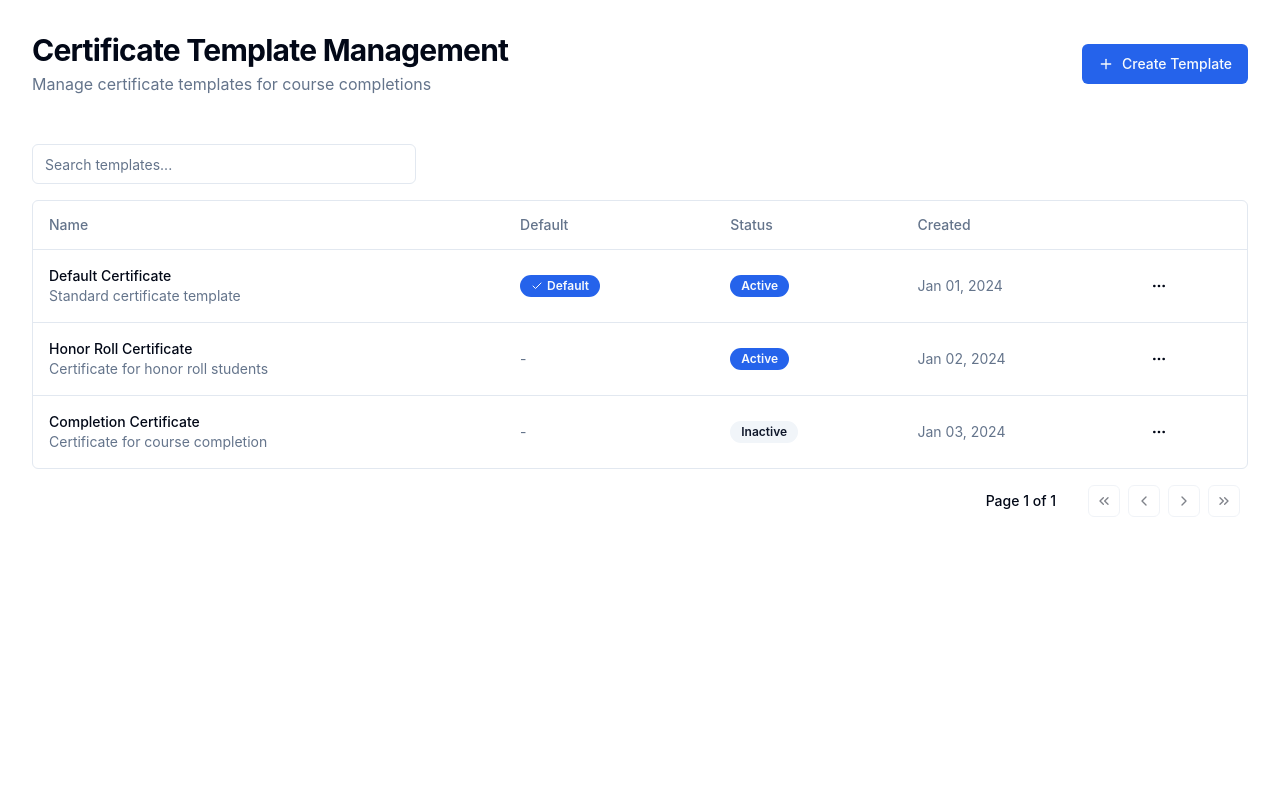
Test: CertificateTemplateManagementPage › Preview Template › should open preview modal when Preview action is clicked
Check: the text "Default Certificate" is shown, box [49, 266, 171, 284]
What coordinates should you click on to do the following:
click the button named "open menu" in the row of "Default Certificate"
I would click on:
 (1159, 286)
Its box is [1143, 270, 1175, 302].
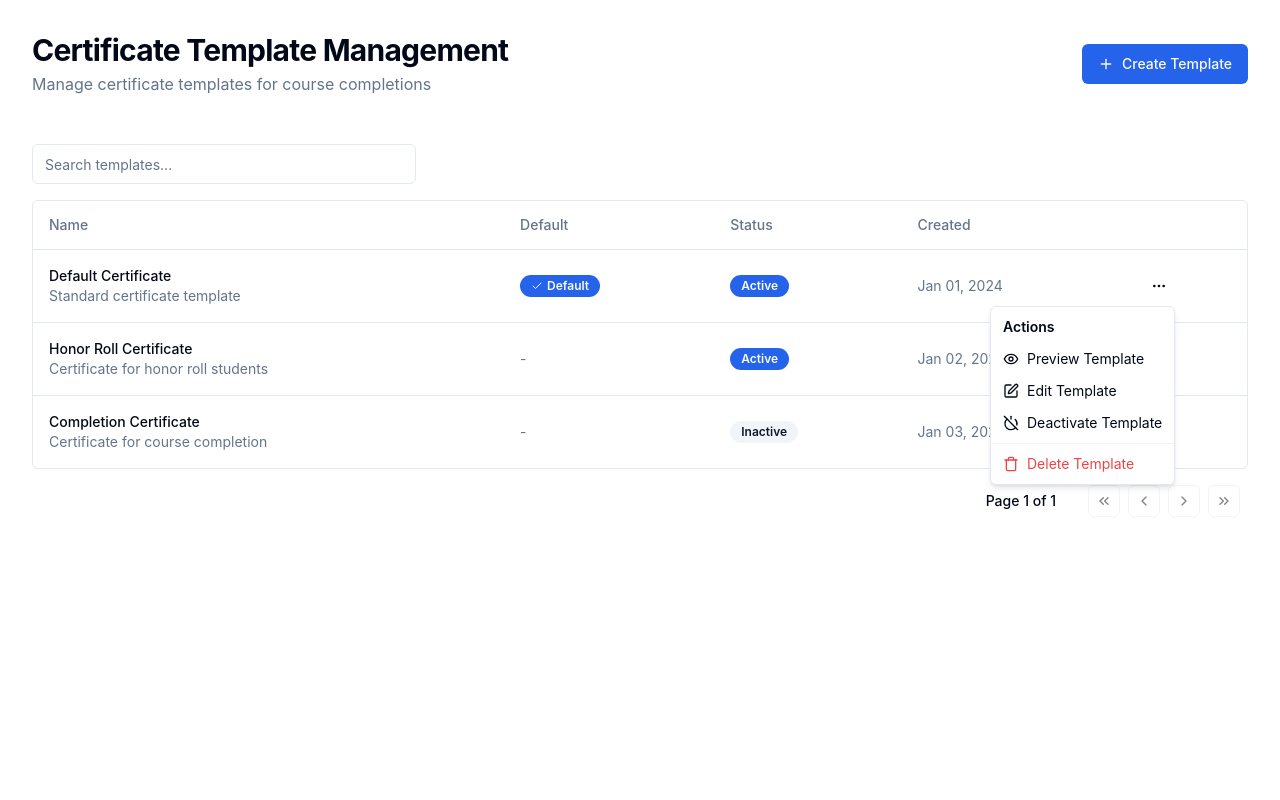
Check: the menu item "Preview Template" is shown
What coordinates should you click on to do the following:
click the menu item "Preview Template"
I would click on:
 (1074, 358)
Its box is [1003, 350, 1144, 367].
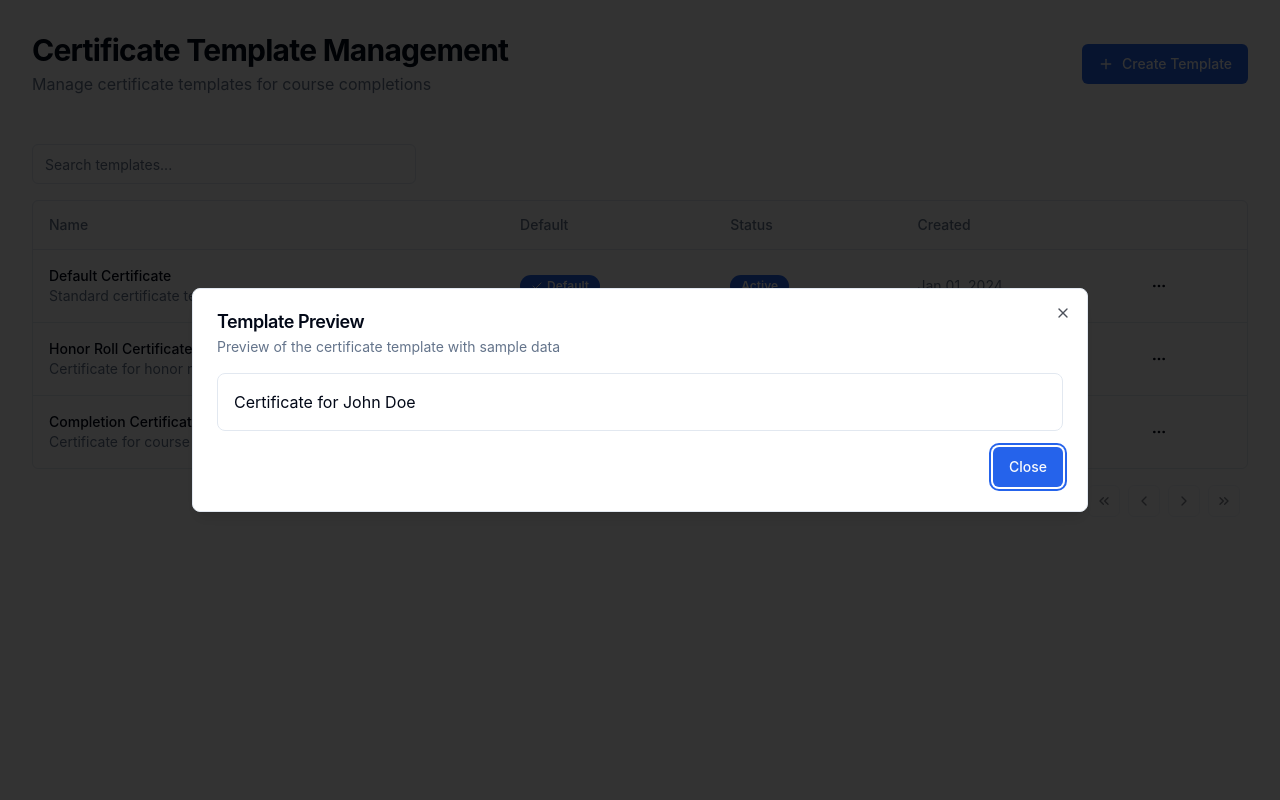
Check: the dialog is shown, box [192, 288, 1088, 512]
Check: the heading "Template Preview" is shown, box [217, 311, 364, 332]
